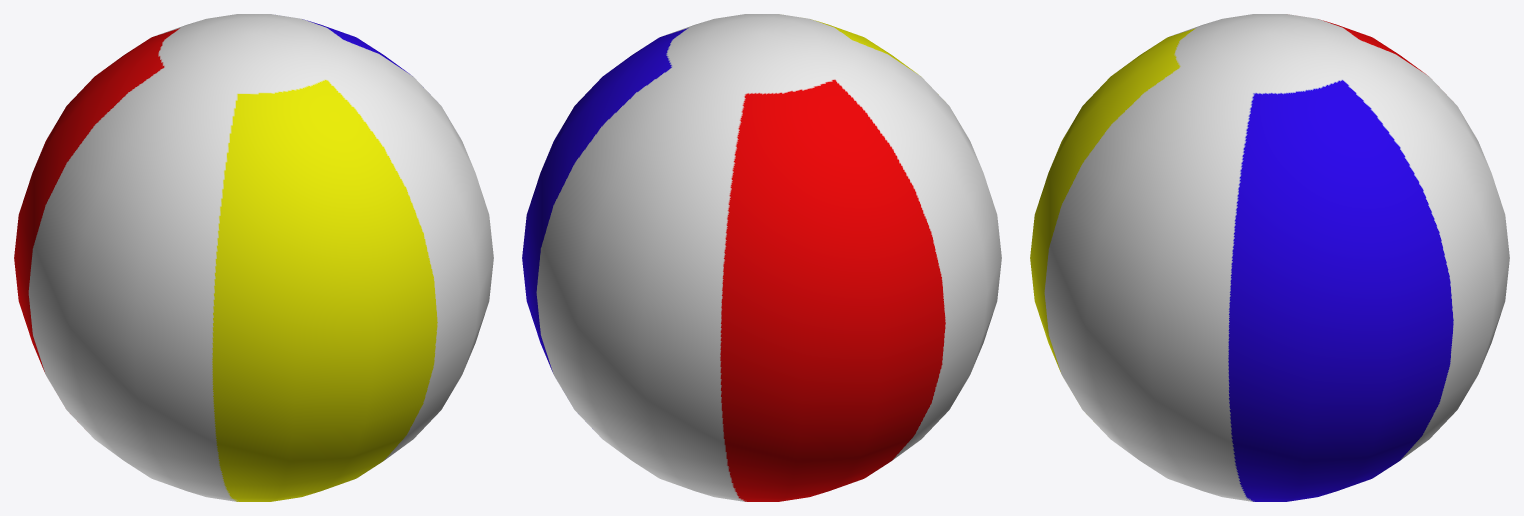
File: OP-Beach Ball.fbx
3 renders of one model, left to right at view 1: azimuth 30°, elevation 25°; view 2: azimuth 150°, elevation 25°; view 3: azimuth 270°, elevation 25°, orthographic.
Parts seen in each view (by area): view 1: Sphere; view 2: Sphere; view 3: Sphere.
Boxes of the visible parts, x1,y1,x2,y2 form: Sphere: (14,14,493,501); Sphere: (522,14,1001,501); Sphere: (1030,14,1509,501).
Bounding box in the file's own units: 188 × 191 × 197.
